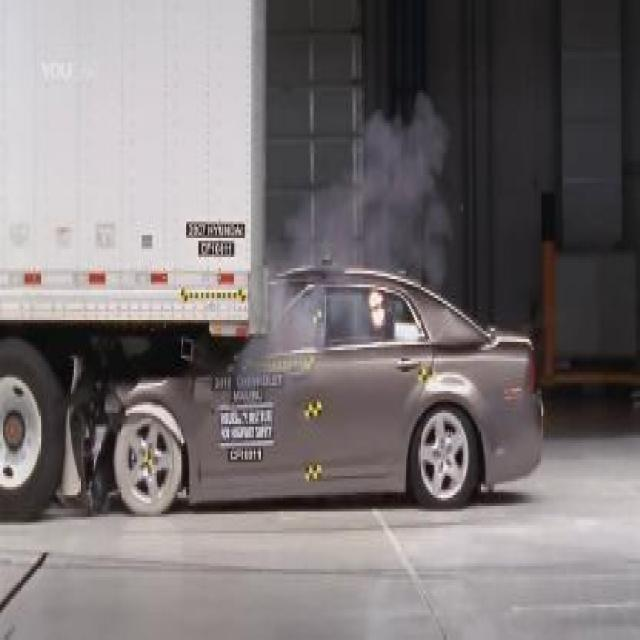accident: (2, 3, 549, 528)
